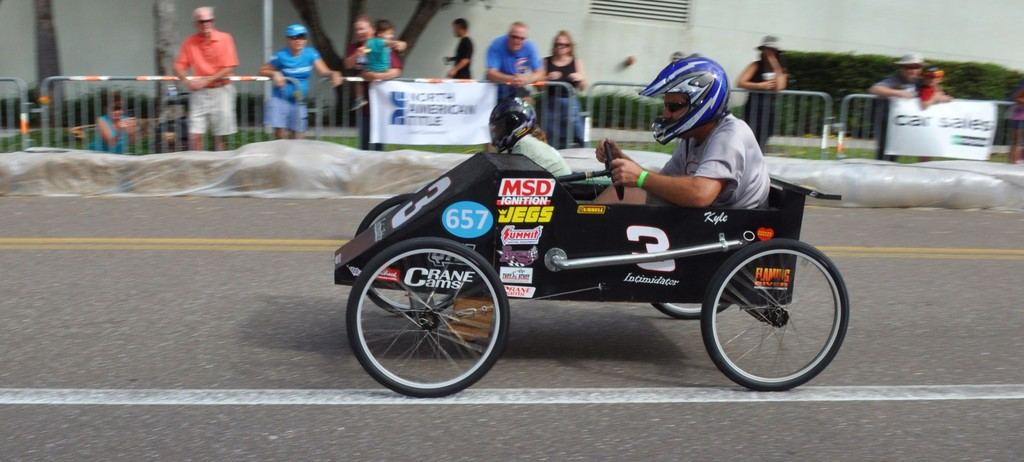Person: (87, 5, 1024, 207), (561, 59, 784, 208)
